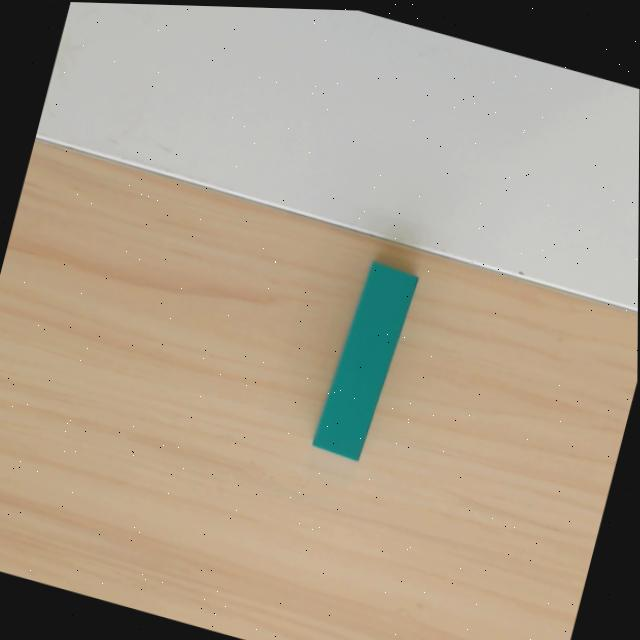Balok-Hijau-1002525: (310, 260, 419, 462)
